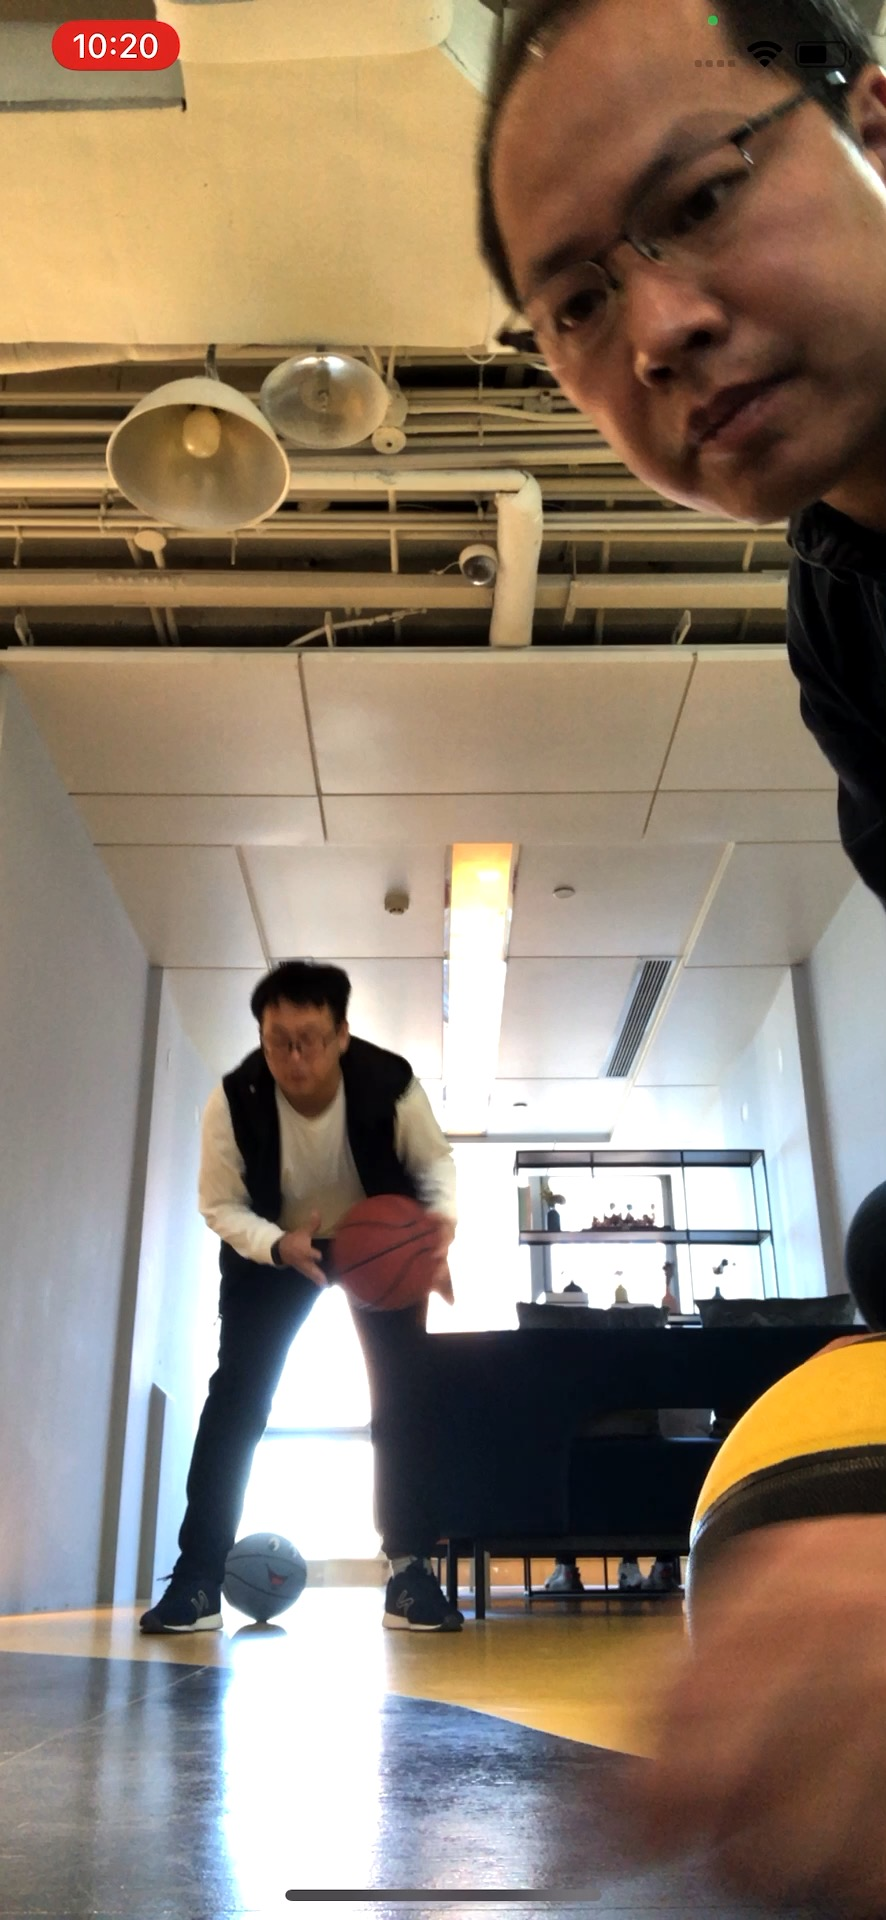ball: (327, 1194, 452, 1308), (223, 1537, 310, 1627)
